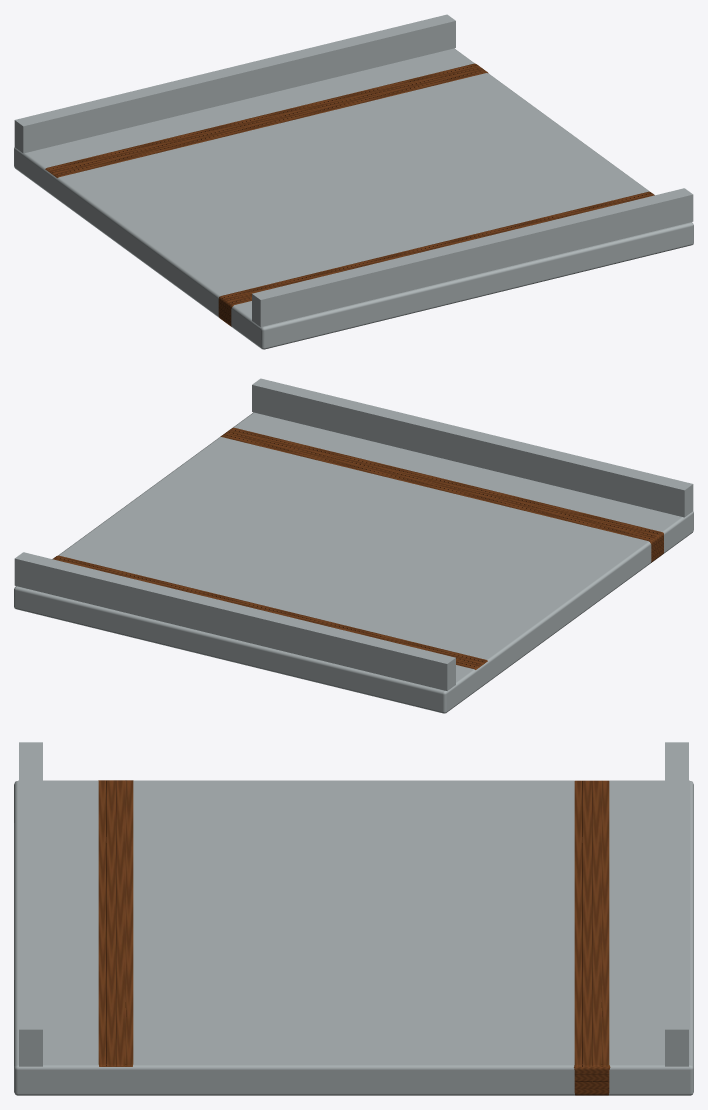
The model's file is bunker-shelter-construction-flat-ceiling-a09289be__23299.glb.
3 views of the same model, one above another, from view 1: azimuth 30°, elevation 25°; view 2: azimuth 150°, elevation 25°; view 3: azimuth 270°, elevation 25° (orthographic). The views are drawn at different scales.
Visible parts, largest first — view 1: flat-ceiling; view 2: flat-ceiling; view 3: flat-ceiling.
Part boxes in pixels (left/top/right/bottom): flat-ceiling: left=14, top=14, right=693, bottom=349; flat-ceiling: left=14, top=378, right=693, bottom=713; flat-ceiling: left=14, top=742, right=693, bottom=1095.
Bounding box in the file's own units: 2 × 0.22 × 2.
2 materials, 1 textured.
